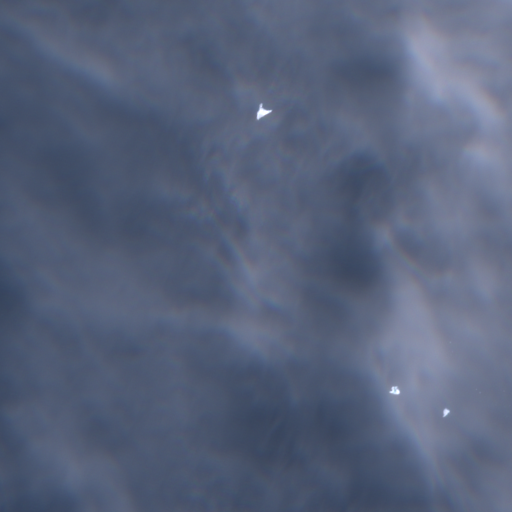Iceberg: (256, 103, 272, 119), (389, 386, 399, 394), (443, 408, 449, 416)
